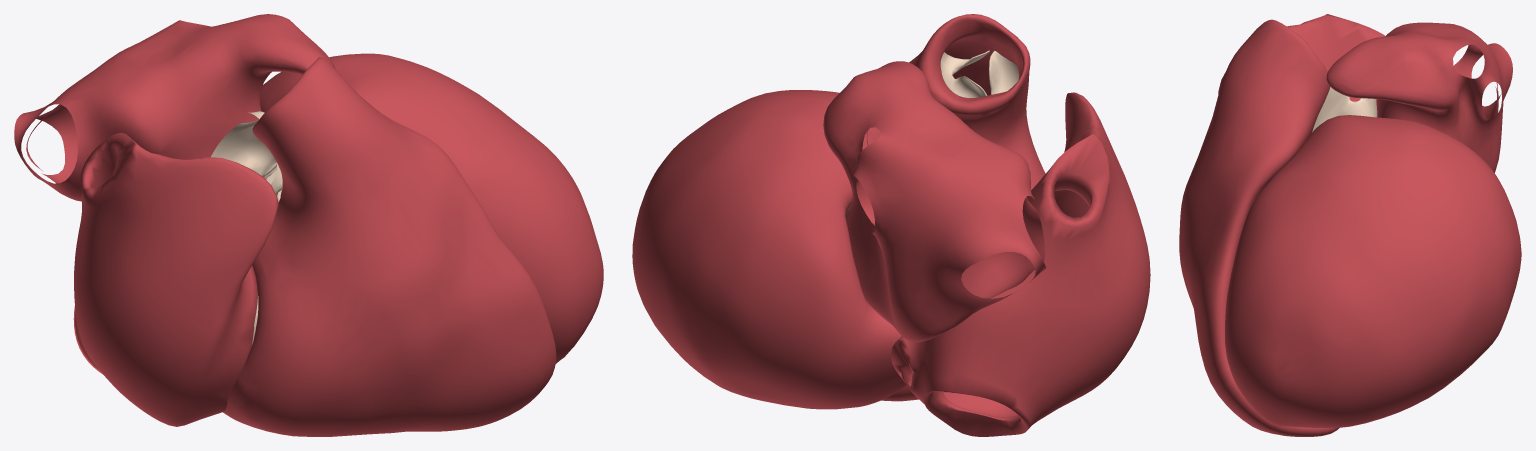
File: heart-mobile.glb
3 renders of one model, left to right at view 1: azimuth 30°, elevation 25°; view 2: azimuth 150°, elevation 25°; view 3: azimuth 270°, elevation 25°, orthographic. The views are drawn at different scales.
Parts seen in each view (by area): view 1: VH_F_right_ventricle, VH_F_right_cardiac_atrium, VH_F_left_ventricle, VH_F_left_cardiac_atrium, VH_F_aortic_valve; view 2: VH_F_left_ventricle, VH_F_right_cardiac_atrium, VH_F_left_cardiac_atrium, VH_F_right_ventricle, VH_F_pulmonary_valve; view 3: VH_F_left_ventricle, VH_F_right_ventricle, VH_F_left_cardiac_atrium, VH_F_right_cardiac_atrium, VH_F_aortic_valve.
Boxes of the visible parts, <box> form: VH_F_right_ventricle: <box>223,57,556,436</box>; VH_F_right_cardiac_atrium: <box>73,132,278,426</box>; VH_F_left_ventricle: <box>259,53,603,363</box>; VH_F_left_cardiac_atrium: <box>14,14,335,201</box>; VH_F_aortic_valve: <box>211,111,282,202</box>; VH_F_left_ventricle: <box>632,90,906,409</box>; VH_F_right_cardiac_atrium: <box>890,92,1150,436</box>; VH_F_left_cardiac_atrium: <box>823,61,1046,342</box>; VH_F_right_ventricle: <box>881,14,1045,401</box>; VH_F_pulmonary_valve: <box>940,50,1019,97</box>; VH_F_left_ventricle: <box>1225,115,1521,428</box>; VH_F_right_ventricle: <box>1179,19,1339,436</box>; VH_F_left_cardiac_atrium: <box>1326,22,1512,172</box>; VH_F_right_cardiac_atrium: <box>1218,14,1385,102</box>; VH_F_aortic_valve: <box>1312,87,1377,132</box>.
Size of the model in its own units: 0.1425 by 0.11 by 0.1015.
